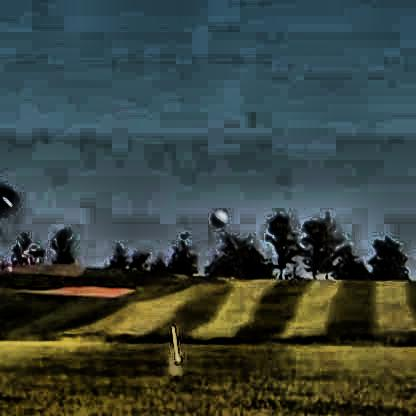golfball: (207, 206, 225, 225)
